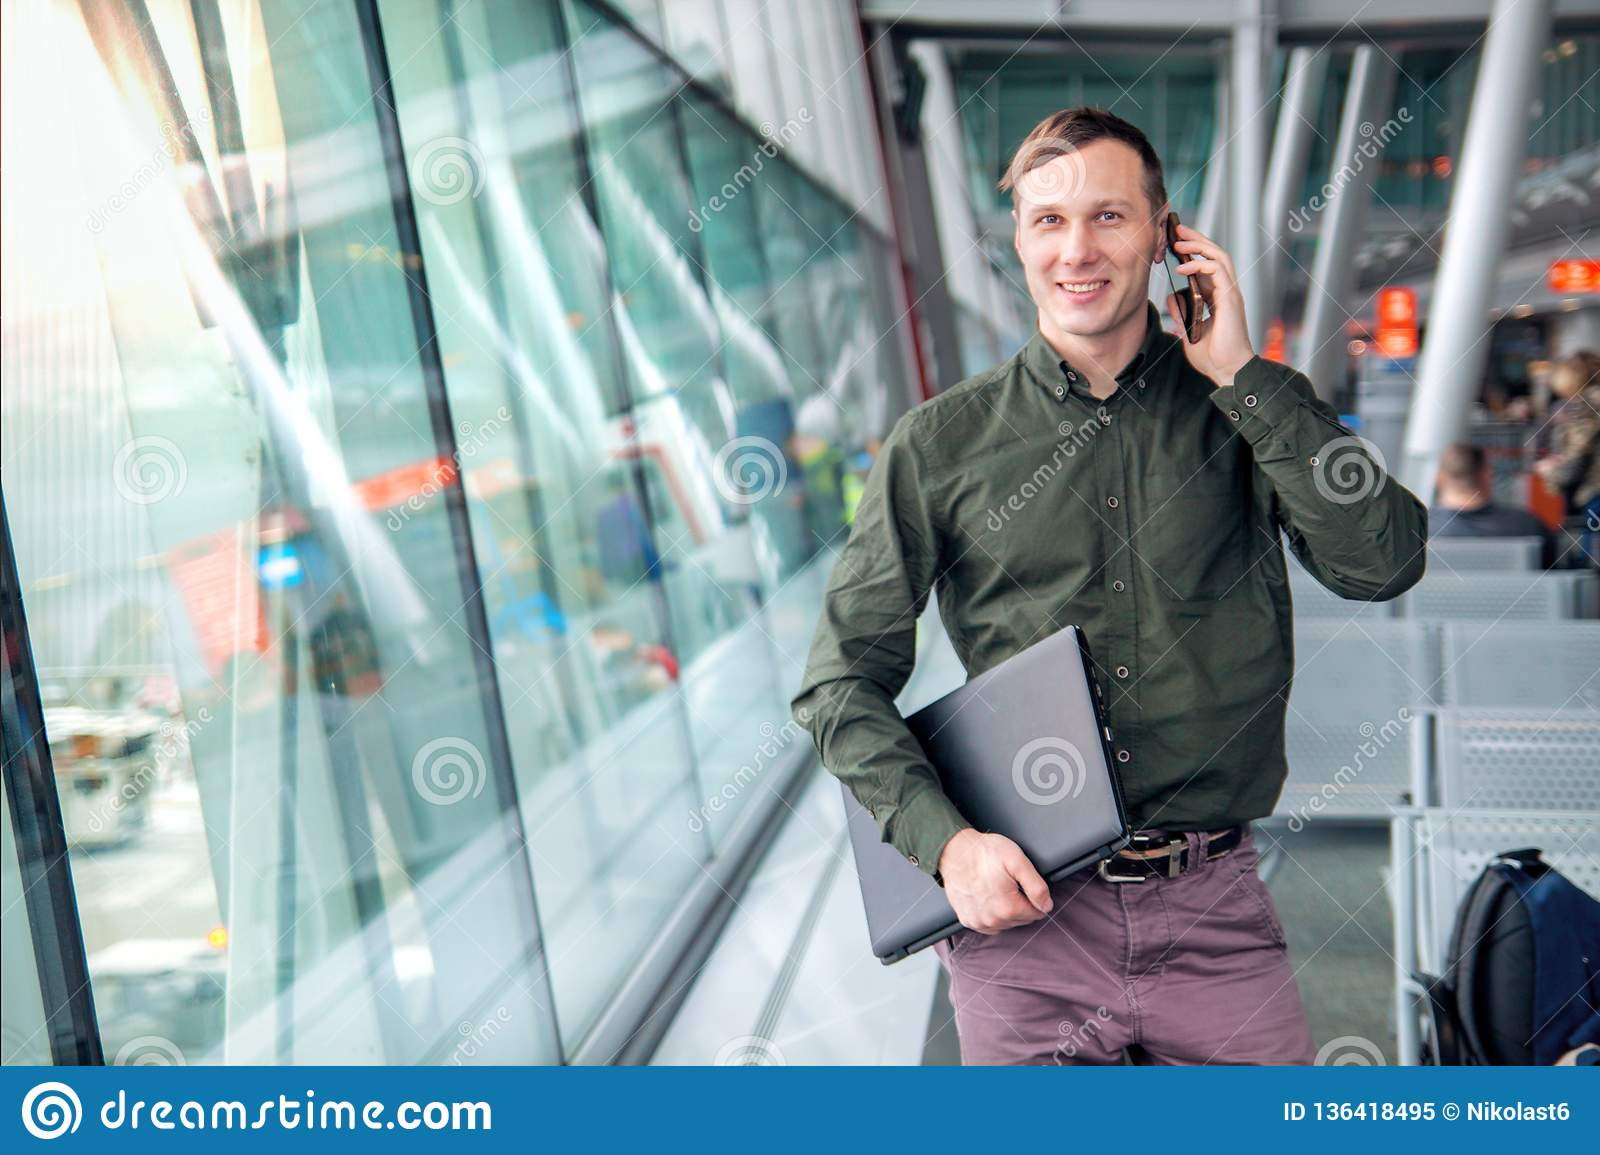phone: (1163, 214, 1211, 353)
talk: (1027, 192, 1248, 383)
